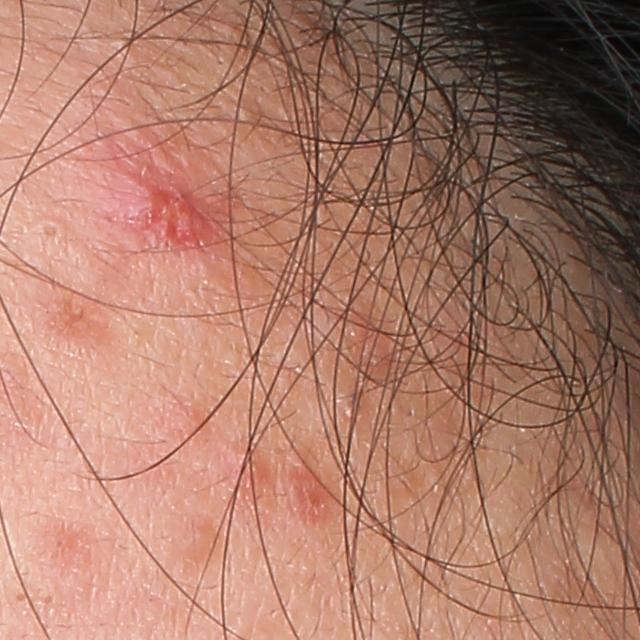comedo: (31, 216, 73, 247)
papule: (102, 176, 197, 242), (278, 461, 323, 522)
